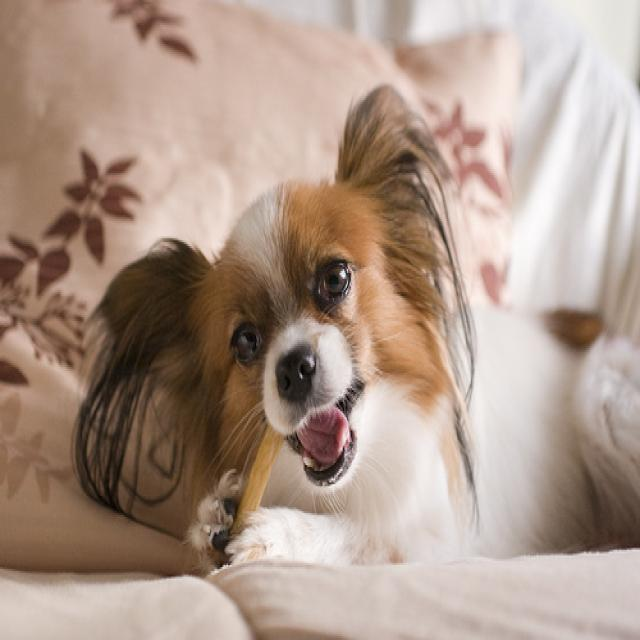dog: (76, 86, 479, 562)
